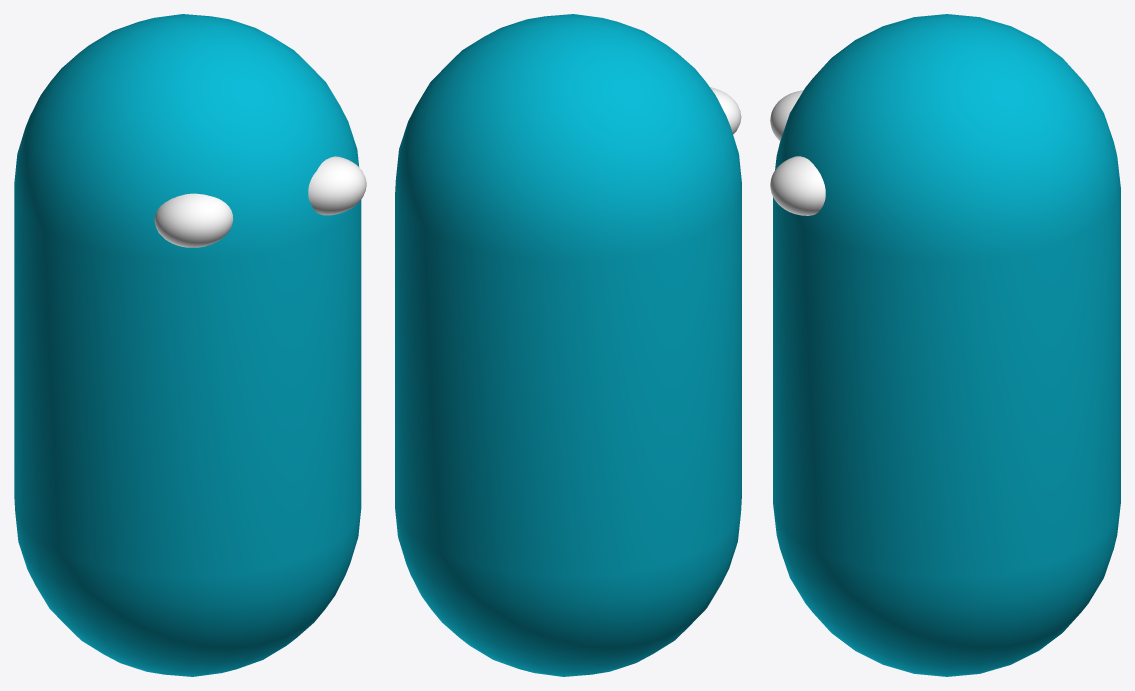
File: Zombies.fbx
The picture shows the model from 3 angles, left to right: view 1: azimuth 30°, elevation 25°; view 2: azimuth 150°, elevation 25°; view 3: azimuth 270°, elevation 25°; orthographic projection.
Parts seen in each view (by area): view 1: Zombies, Olho__1_, Olho; view 2: Zombies, Olho__1_; view 3: Zombies, Olho, Olho__1_.
Part boxes in pixels (left/top/right/bottom): Zombies: left=14, top=14, right=361, bottom=676; Olho__1_: left=154, top=193, right=233, bottom=247; Olho: left=308, top=156, right=366, bottom=215; Zombies: left=395, top=14, right=741, bottom=676; Olho__1_: left=710, top=87, right=741, bottom=134; Zombies: left=773, top=14, right=1120, bottom=676; Olho: left=770, top=156, right=825, bottom=215; Olho__1_: left=770, top=90, right=803, bottom=140.
Size of the model in its own units: 100 by 200 by 101.
